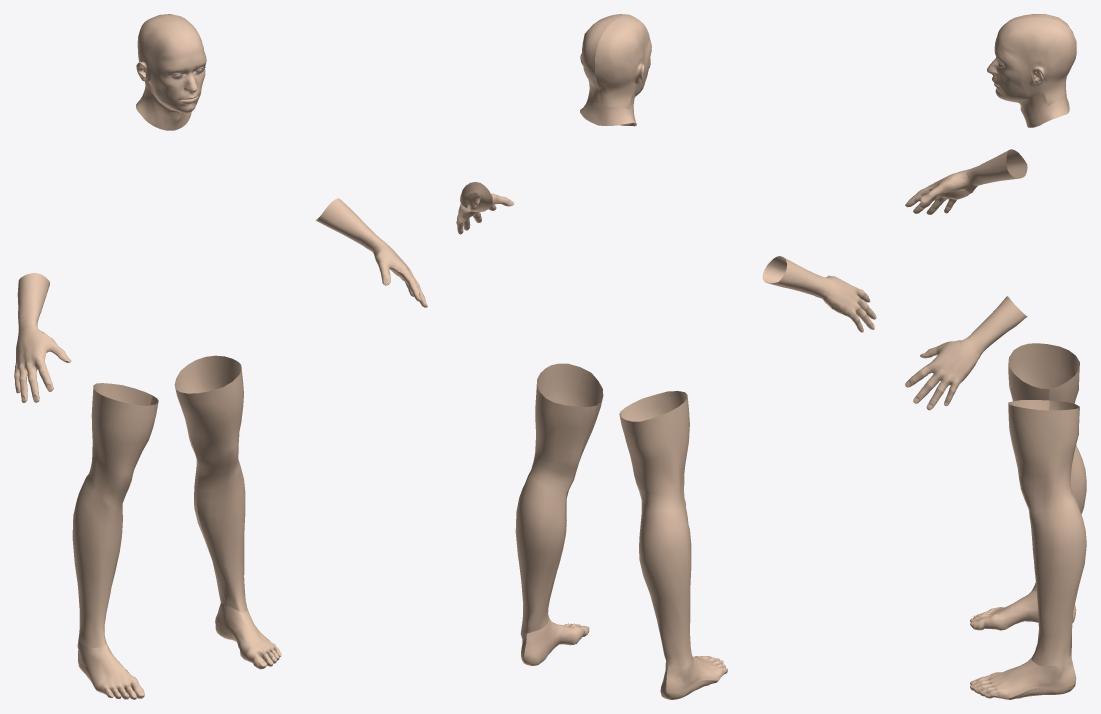
Rendered from body_formal_suit.glb.
The picture shows the model from 3 angles, left to right: view 1: azimuth 30°, elevation 25°; view 2: azimuth 150°, elevation 25°; view 3: azimuth 270°, elevation 25°; orthographic projection.
Parts seen in each view (by area): view 1: Body; view 2: Body; view 3: Body.
Boxes of the visible parts, x1=… form: Body: x1=14, y1=14, x2=427, y2=699; Body: x1=456, y1=14, x2=876, y2=699; Body: x1=905, y1=14, x2=1086, y2=699.
Size of the model in its own units: 1.15 by 1.74 by 0.4476.
